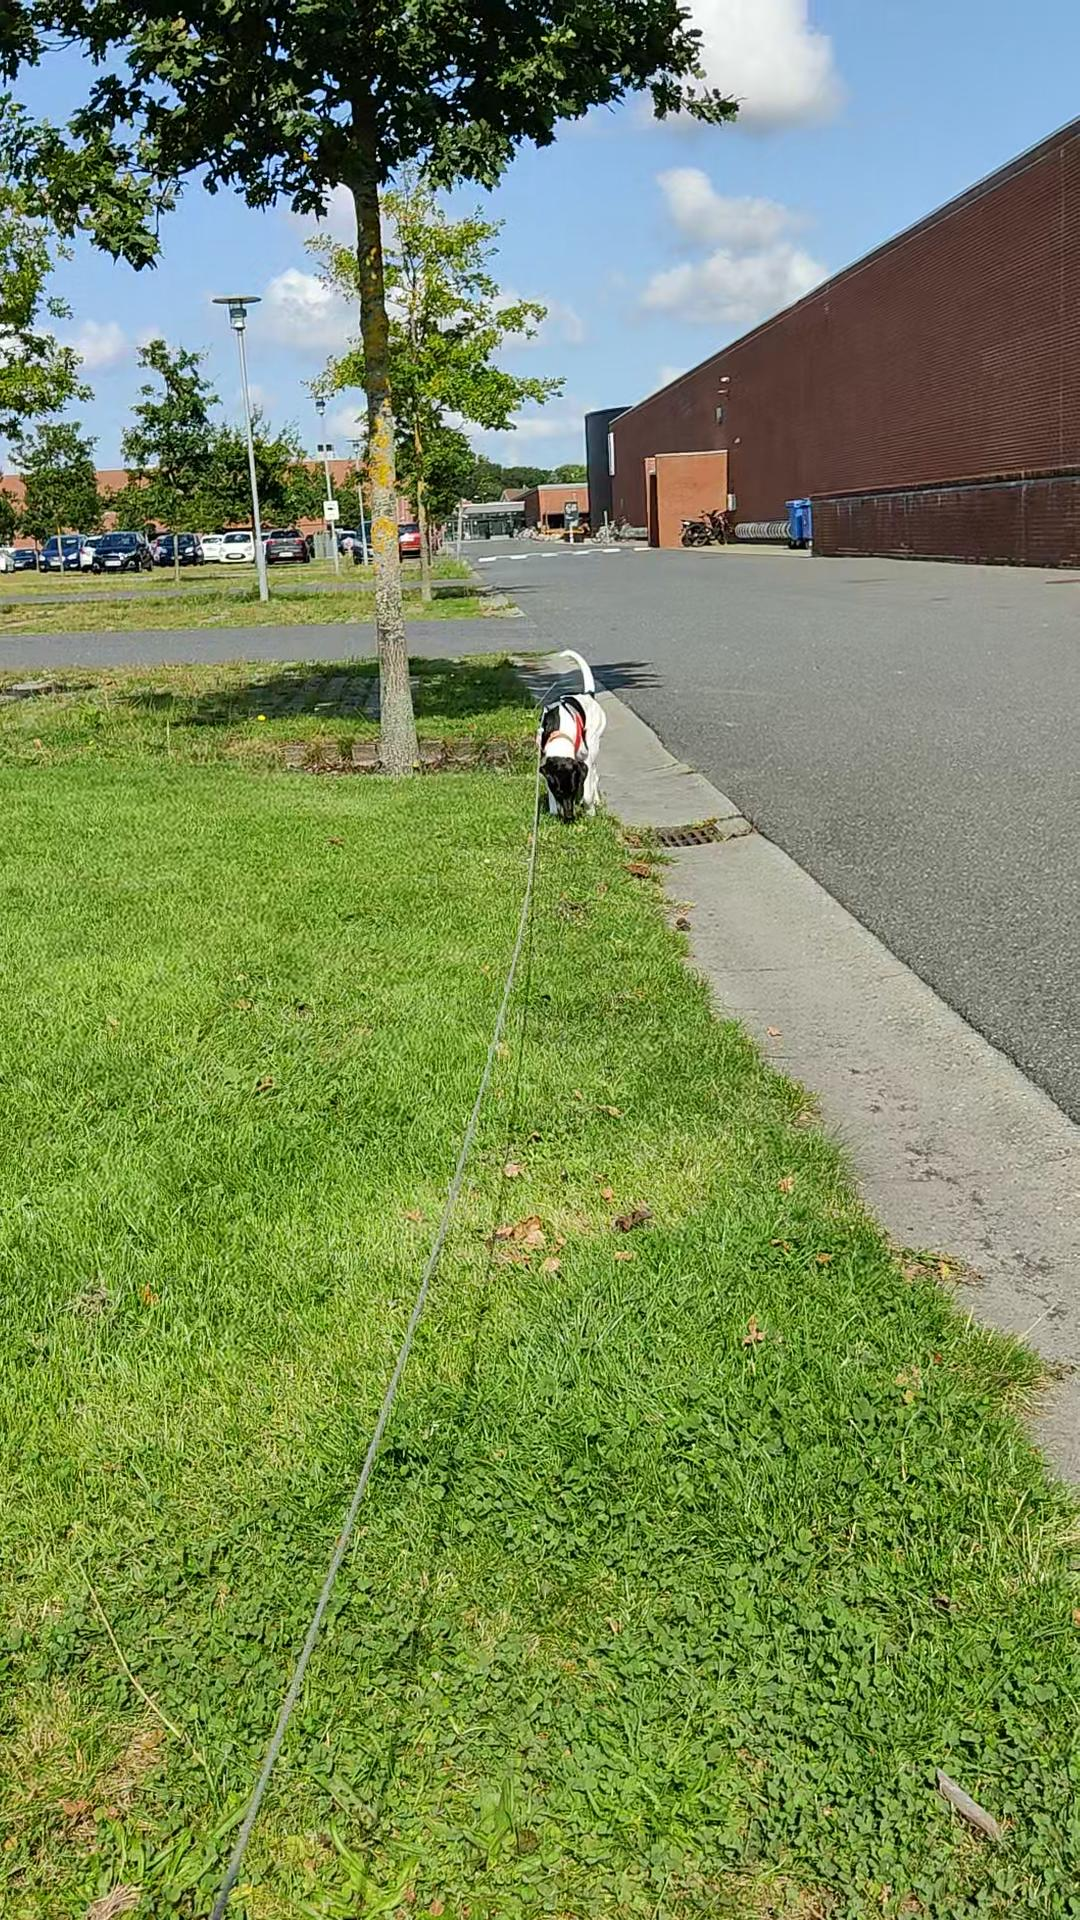Dog: (531, 644, 611, 824)
